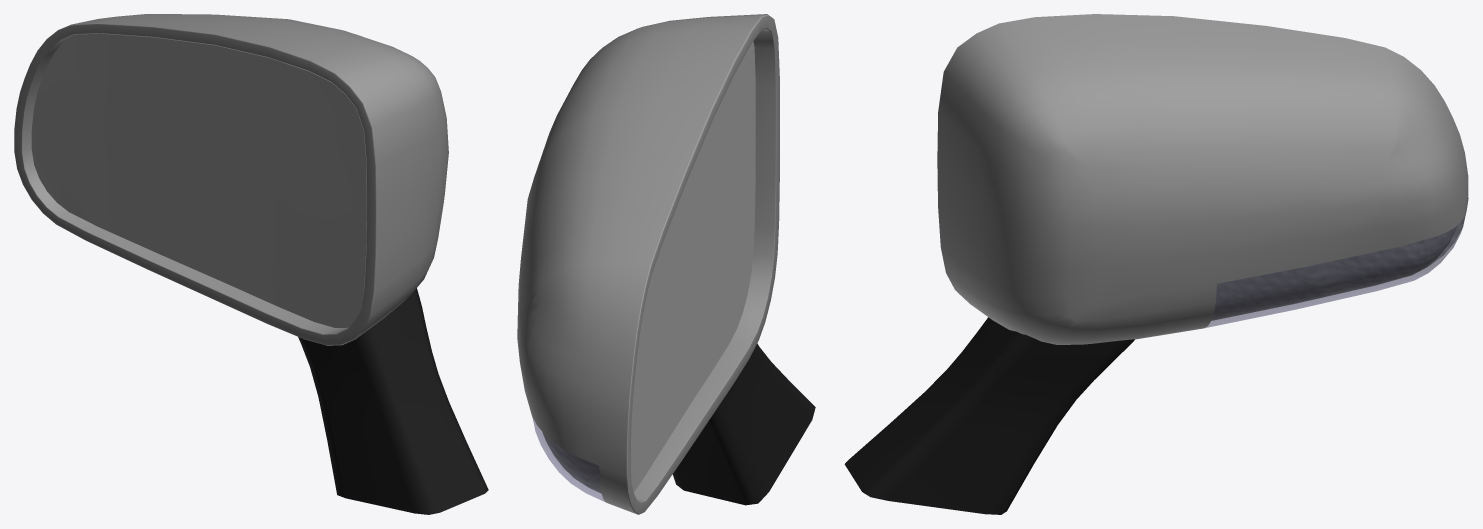
The picture shows the model from 3 angles, left to right: view 1: azimuth 30°, elevation 25°; view 2: azimuth 150°, elevation 25°; view 3: azimuth 270°, elevation 25°; orthographic projection. The views are drawn at different scales.
Parts seen in each view (by area): view 1: Y192_261I_L_Y192_261I_L_5_DTaSI, Y192_261I_L_Y192_261I_L_2_DaS, Y192_261I_L_Y192_261I_L_3_D; view 2: Y192_261I_L_Y192_261I_L_2_DaS, Y192_261I_L_Y192_261I_L_5_DTaSI, Y192_261I_L_Y192_261I_L_3_D, Y192_261I_L_Y192_261I_L_4_DTaSI, Y192_261I_L_1_N_Y192_261I_L; view 3: Y192_261I_L_Y192_261I_L_2_DaS, Y192_261I_L_Y192_261I_L_3_D, Y192_261I_L_Y192_261I_L_4_DTaSI, Y192_261I_L_1_N_Y192_261I_L.
Part boxes in pixels (x1,y1,x2,y2): Y192_261I_L_Y192_261I_L_5_DTaSI: (31, 33, 366, 327); Y192_261I_L_Y192_261I_L_2_DaS: (14, 14, 448, 345); Y192_261I_L_Y192_261I_L_3_D: (298, 288, 488, 514); Y192_261I_L_Y192_261I_L_2_DaS: (517, 14, 779, 514); Y192_261I_L_Y192_261I_L_5_DTaSI: (631, 41, 755, 492); Y192_261I_L_Y192_261I_L_3_D: (672, 343, 815, 505); Y192_261I_L_Y192_261I_L_4_DTaSI: (532, 417, 605, 502); Y192_261I_L_1_N_Y192_261I_L: (542, 432, 601, 493); Y192_261I_L_Y192_261I_L_2_DaS: (937, 14, 1468, 344); Y192_261I_L_Y192_261I_L_3_D: (844, 317, 1134, 514); Y192_261I_L_Y192_261I_L_4_DTaSI: (1205, 213, 1465, 327); Y192_261I_L_1_N_Y192_261I_L: (1211, 211, 1466, 320).
Size of the model in its own units: 17.89 by 30.54 by 37.79.
